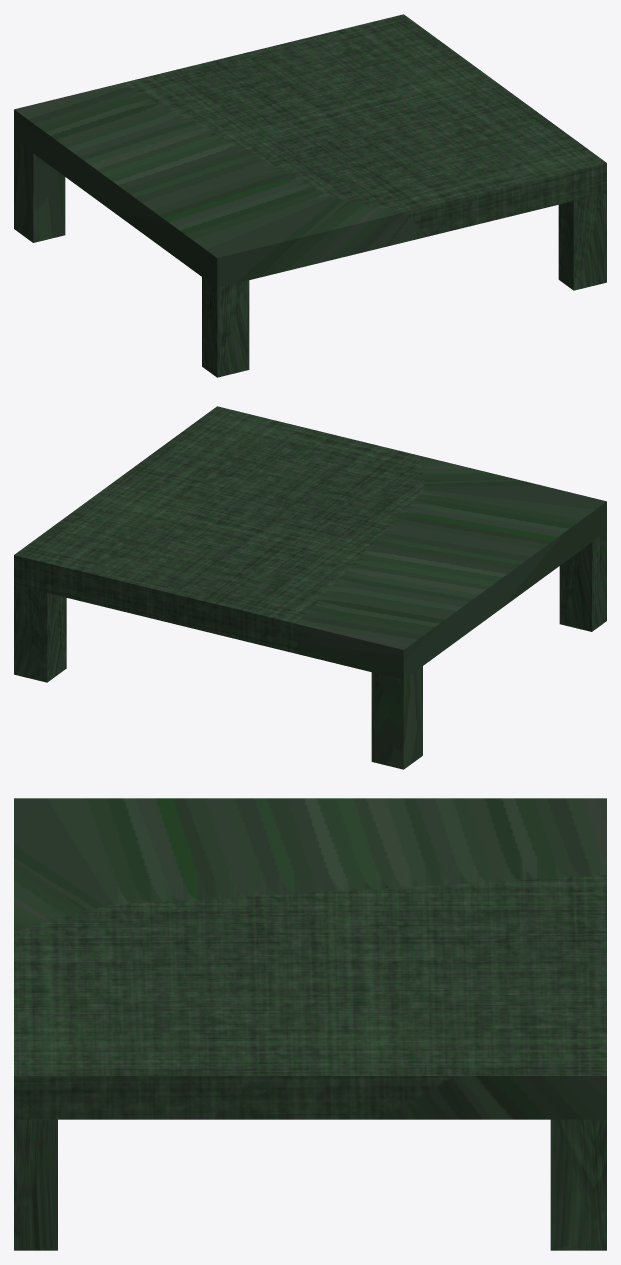
File: mesa.fbx
The picture shows the model from 3 angles, top to bottom: view 1: azimuth 30°, elevation 25°; view 2: azimuth 150°, elevation 25°; view 3: azimuth 270°, elevation 25°; orthographic projection. The views are drawn at different scales.
Visible parts, largest first — view 1: pCube3; view 2: pCube3; view 3: pCube3.
Part boxes in pixels (x1,y1,x2,y2): pCube3: [14, 14, 606, 377]; pCube3: [14, 406, 606, 769]; pCube3: [14, 798, 606, 1250].
Bounding box in the file's own units: 129 × 37.84 × 117.
